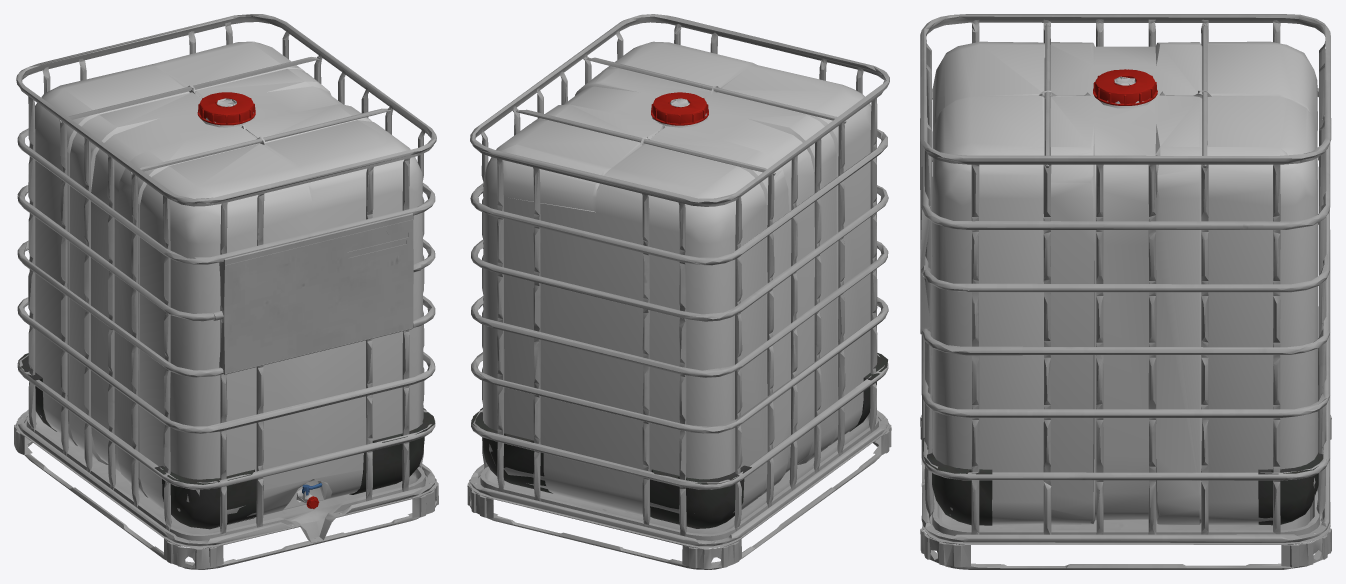
File: ibctank_a01.glb
3 views of the same model, side by side, from view 1: azimuth 30°, elevation 25°; view 2: azimuth 150°, elevation 25°; view 3: azimuth 270°, elevation 25° (orthographic). The views are drawn at different scales.
Visible parts, largest first — view 1: root; view 2: root; view 3: root.
Boxes of the visible parts, x1,y1,x2,y2 form: root: (14, 14, 438, 569); root: (467, 14, 891, 569); root: (920, 14, 1331, 569).
Bounding box in the file's own units: 1.05 × 1.41 × 1.26.
5 materials, 4 textured.
